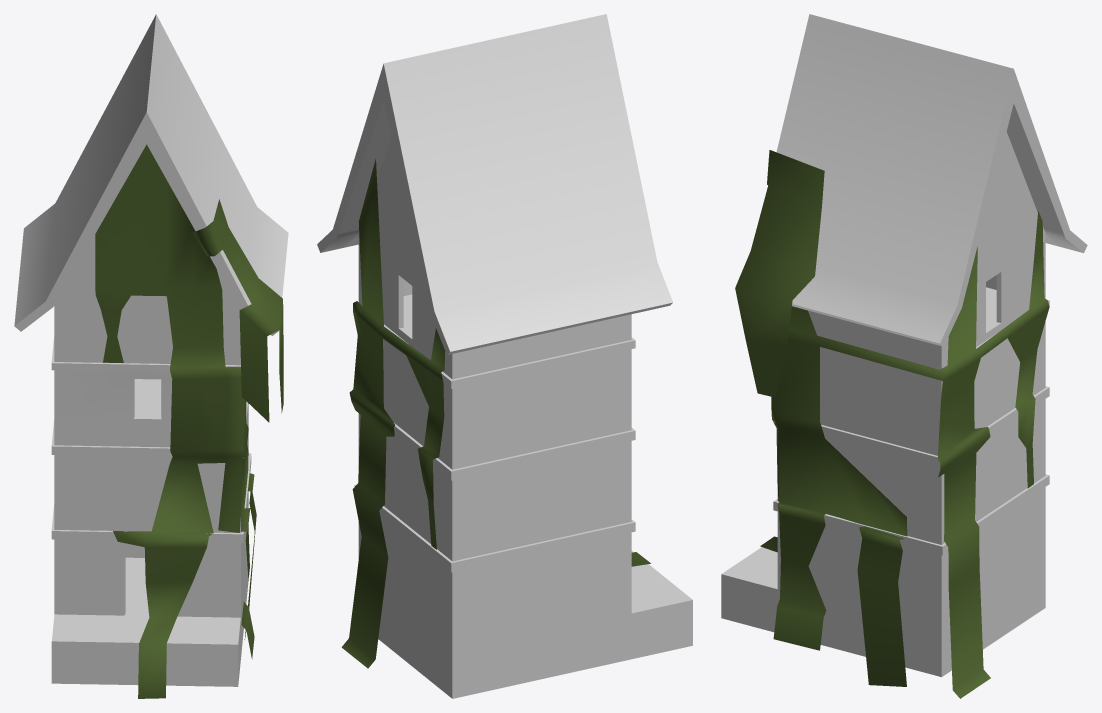
Rendered from chunk107.glb.
3 views of the same model, side by side, from view 1: azimuth 30°, elevation 25°; view 2: azimuth 150°, elevation 25°; view 3: azimuth 270°, elevation 25° (orthographic). The views are drawn at different scales.
Visible parts, largest first — view 1: house-col, creepers; view 2: house-col, creepers; view 3: house-col, creepers.
Boxes of the visible parts, <box> form: house-col: <box>14,14,288,686</box>; creepers: <box>95,144,283,698</box>; house-col: <box>317,14,692,698</box>; creepers: <box>341,159,650,668</box>; house-col: <box>721,14,1087,677</box>; creepers: <box>735,150,1049,698</box>.
Size of the model in its own units: 17.66 by 32.61 by 17.84.
